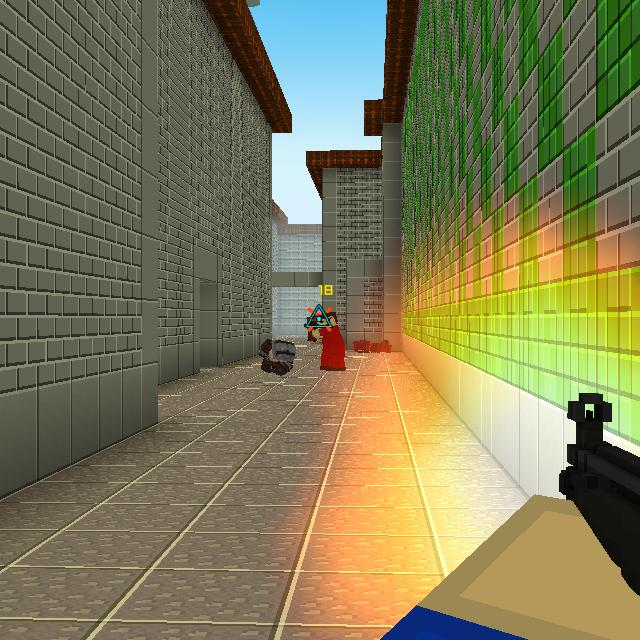enemy: (309, 311, 347, 371), (304, 316, 317, 342)
